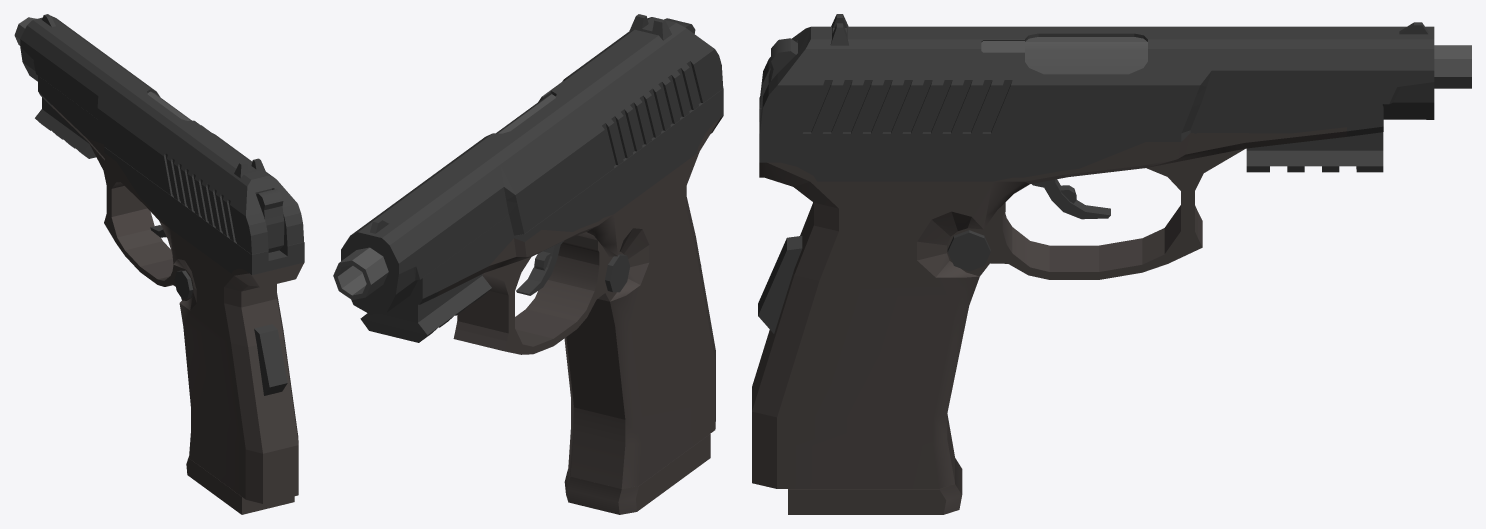
The picture shows the model from 3 angles, left to right: view 1: azimuth 30°, elevation 25°; view 2: azimuth 150°, elevation 25°; view 3: azimuth 270°, elevation 25°; orthographic projection. The views are drawn at different scales.
Visible parts, largest first — view 1: Frame, Slide, Grip_Safety, Magazine, Hammer, Pic_Rail, Barrel, Mag_Release, Rear_Sights; view 2: Frame, Slide, Magazine, Pic_Rail, Barrel, Trigger, Mag_Release, Rear_Sights; view 3: Frame, Slide, Barrel, Magazine, Pic_Rail, Grip_Safety, Mag_Release, Trigger.
Part boxes in pixels (x1,y1,x2,y2): Frame: (38, 76, 304, 503); Slide: (20, 16, 303, 254); Grip_Safety: (254, 324, 287, 395); Magazine: (186, 457, 294, 514); Hammer: (256, 189, 284, 252); Pic_Rail: (35, 97, 95, 158); Barrel: (14, 17, 191, 120); Mag_Release: (174, 270, 193, 298); Rear_Sights: (234, 158, 265, 178); Frame: (403, 88, 723, 488); Slide: (341, 17, 723, 314); Magazine: (564, 434, 710, 514); Pic_Rail: (360, 274, 491, 342); Barrel: (333, 94, 555, 299); Trigger: (516, 241, 563, 295); Mag_Release: (605, 254, 629, 292); Rear_Sights: (629, 14, 671, 40); Frame: (752, 97, 1383, 488); Slide: (760, 26, 1434, 133); Barrel: (1025, 37, 1471, 88); Magazine: (788, 458, 962, 514); Pic_Rail: (1246, 132, 1383, 172); Grip_Safety: (758, 236, 802, 333); Mag_Release: (947, 230, 990, 271); Trigger: (1032, 179, 1110, 219).
Bounding box in the file's own units: 0.0163 × 0.0986 × 0.1352.
Materials: 1 (1 with a texture image).
